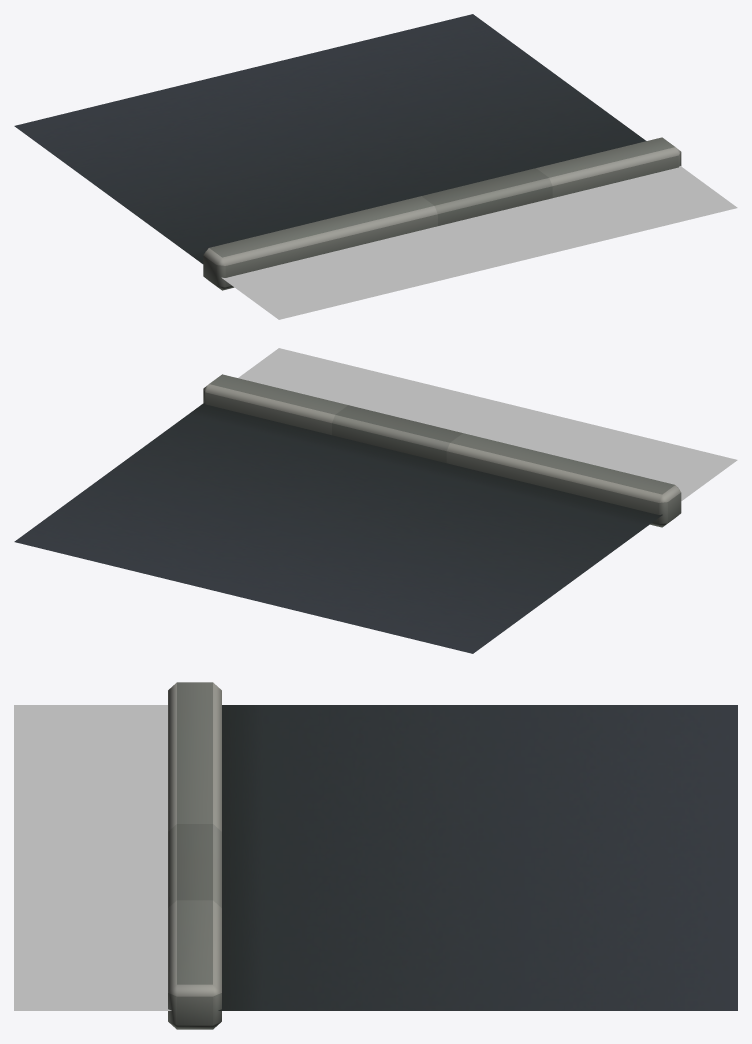
Rendered from parking_lot_straight_x4_nolines.fbx.
The picture shows the model from 3 angles, top to bottom: view 1: azimuth 30°, elevation 25°; view 2: azimuth 150°, elevation 25°; view 3: azimuth 270°, elevation 25°; orthographic projection. The views are drawn at different scales.
Visible parts, largest first — view 1: parking_lot_straight_x4_nolines, parking_lot_straight_x4_nolines_sidewalk; view 2: parking_lot_straight_x4_nolines, parking_lot_straight_x4_nolines_sidewalk; view 3: parking_lot_straight_x4_nolines, parking_lot_straight_x4_nolines_sidewalk.
Boxes of the visible parts, left/top/right/bottom form: parking_lot_straight_x4_nolines: left=14, top=14, right=681, bottom=290; parking_lot_straight_x4_nolines_sidewalk: left=221, top=166, right=737, bottom=319; parking_lot_straight_x4_nolines: left=14, top=374, right=681, bottom=653; parking_lot_straight_x4_nolines_sidewalk: left=238, top=348, right=737, bottom=500; parking_lot_straight_x4_nolines: left=168, top=682, right=737, bottom=1029; parking_lot_straight_x4_nolines_sidewalk: left=14, top=705, right=171, bottom=1010.
Bounding box in the file's own units: 810 × 55 × 800.
